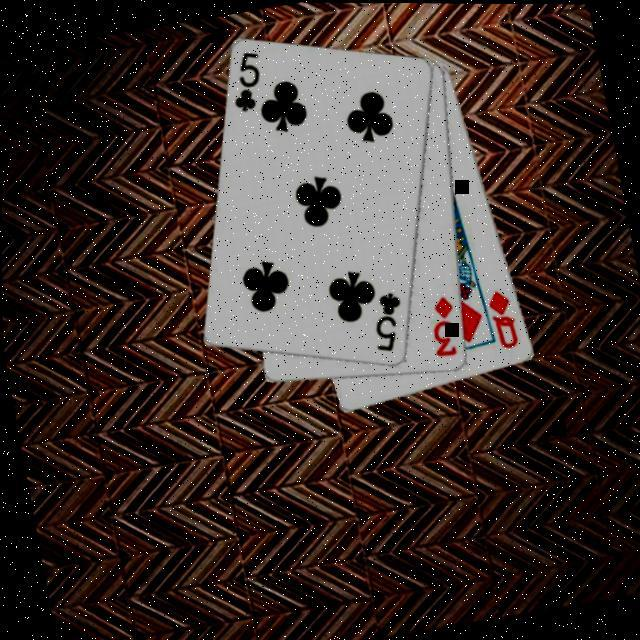3D: (424, 288, 464, 358)
5C: (224, 44, 272, 114), (366, 285, 412, 354)
QD: (484, 282, 524, 350)
